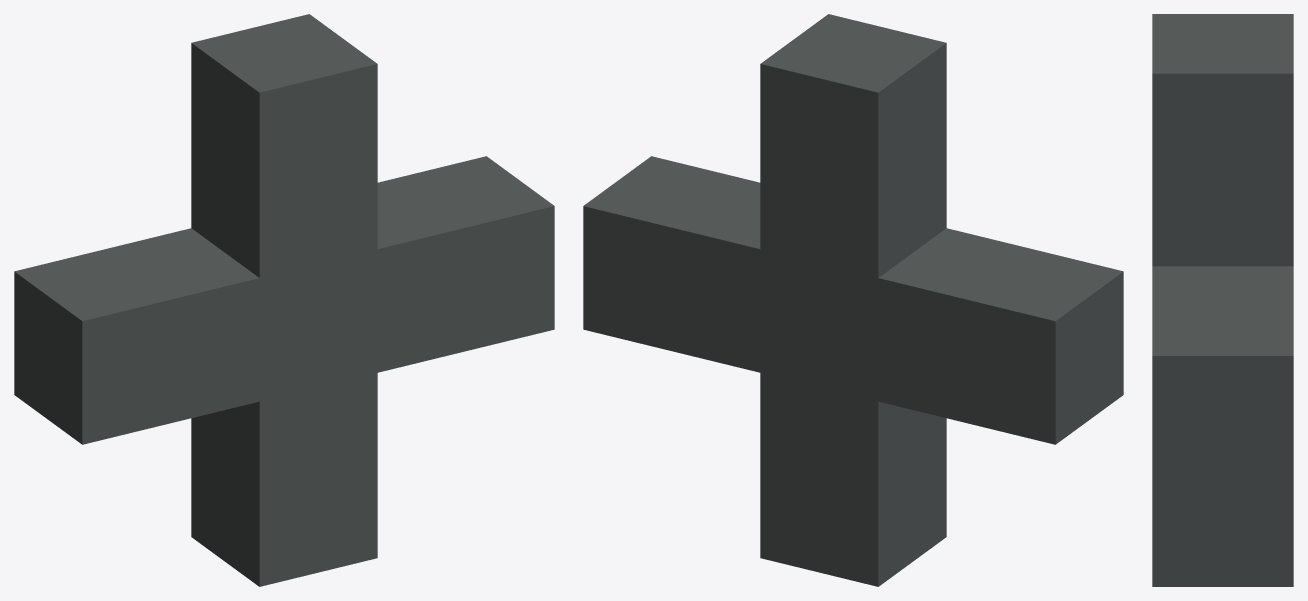
Rendered from cross.obj.
3 renders of one model, left to right at view 1: azimuth 30°, elevation 25°; view 2: azimuth 150°, elevation 25°; view 3: azimuth 270°, elevation 25°, orthographic. The views are drawn at different scales.
Parts seen in each view (by area): view 1: Cross; view 2: Cross; view 3: Cross.
Part boxes in pixels (x1,y1,x2,y2): Cross: [14, 14, 554, 586]; Cross: [583, 14, 1123, 586]; Cross: [1152, 14, 1293, 586].
Size of the model in its own units: 2 by 2 by 0.5.
